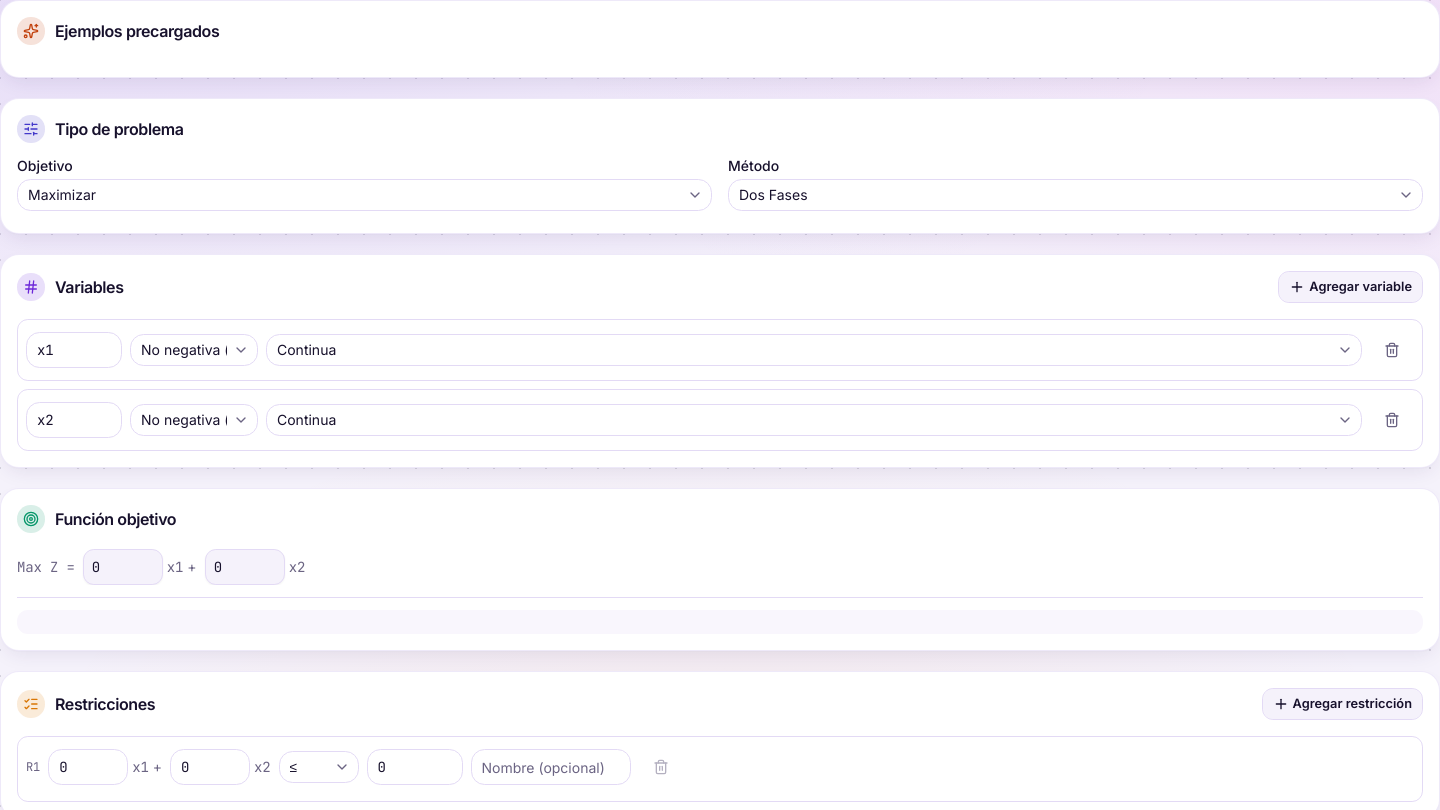
Test: ProblemForm dynamic rows › adding a variable adds a coefficient cell to the objective and every constraint
Click the button "Agregar variable".
click(1351, 287)  # box [1278,271,1423,303]
(page scrolled)
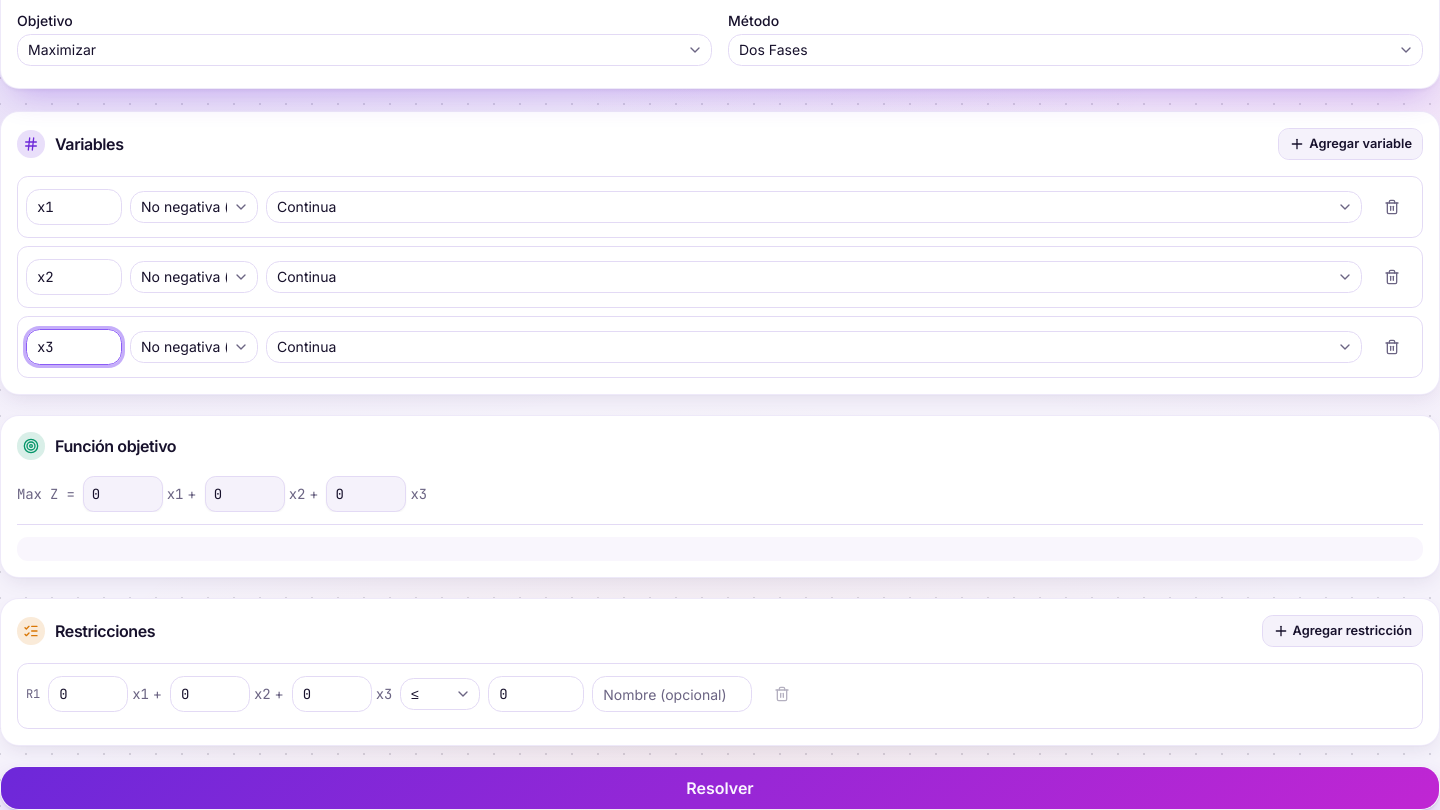
Expected: the field named "Nombre de la variable 3" is shown, [26,329,122,365]
Expected: the number field named "Coeficiente de x3 en la función objetivo" is shown, [326,476,406,512]
Expected: the number field named "Coeficiente de x3 en la restricción 1" is shown, [292,676,372,712]
